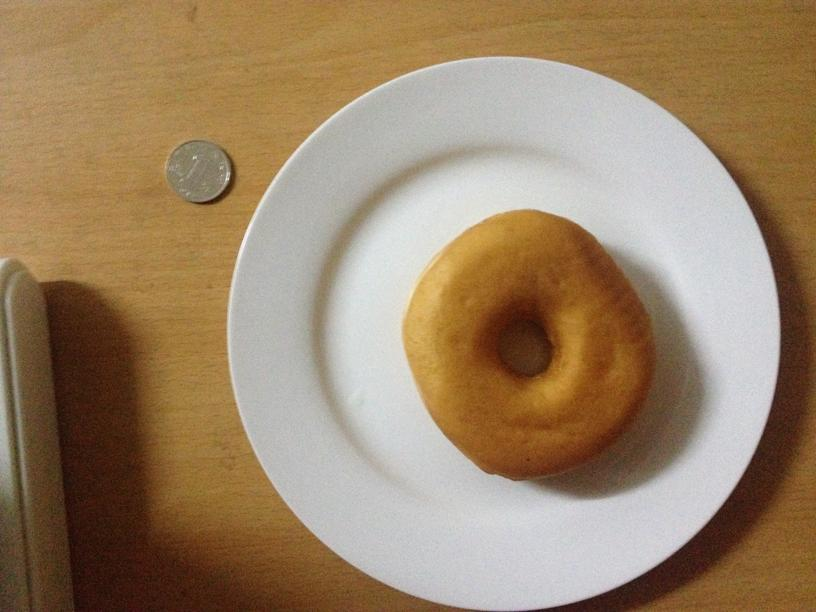coin: (163, 138, 233, 205)
doughnut: (394, 210, 652, 482)
